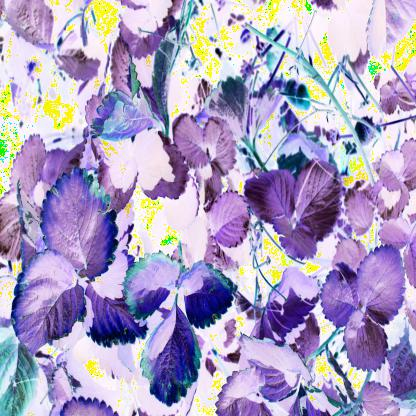Strawberry leaf: (42, 164, 116, 287), (2, 250, 81, 357), (130, 123, 194, 205), (352, 242, 410, 325), (295, 157, 346, 239), (81, 284, 149, 344), (344, 307, 390, 377), (243, 163, 295, 224), (322, 259, 359, 335), (272, 215, 319, 268)
